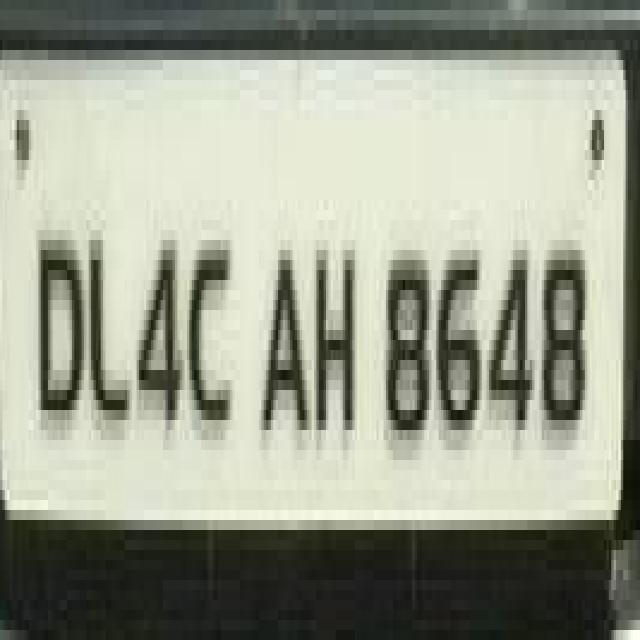license_plate: (2, 10, 606, 620)
